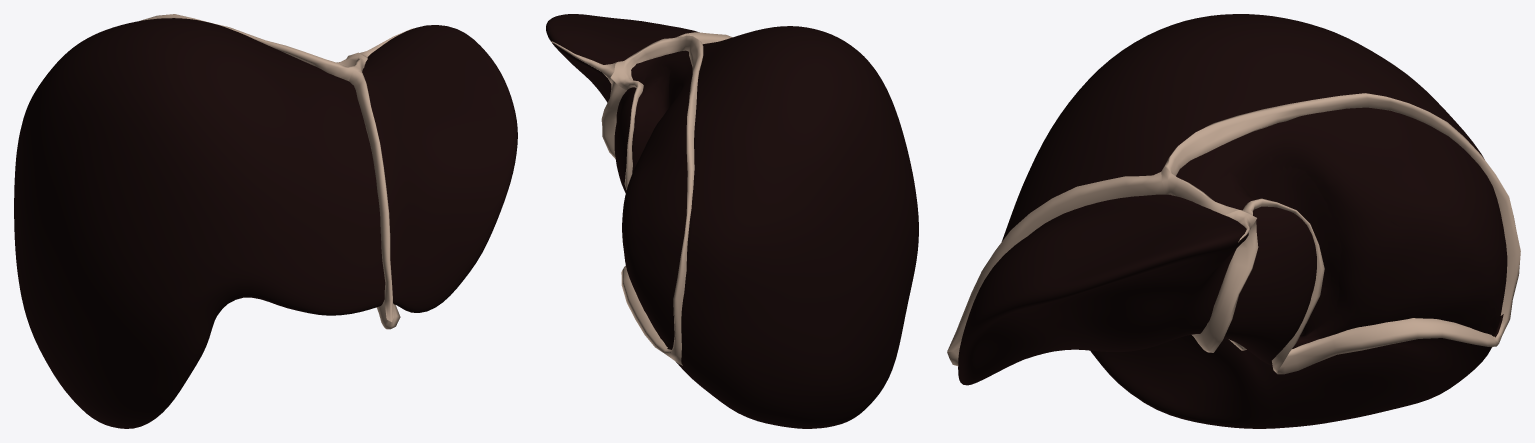
File: VH_M_Liver.fbx
The picture shows the model from 3 angles, left to right: view 1: azimuth 30°, elevation 25°; view 2: azimuth 150°, elevation 25°; view 3: azimuth 270°, elevation 25°; orthographic projection. The views are drawn at different scales.
Visible parts, largest first — view 1: VH_M_liver_capsule, VH_M_falciform_ligament, VH_M_coronary_ligament_of_liver; view 2: VH_M_liver_capsule, VH_M_bare_area_of_liver, VH_M_coronary_ligament_of_liver, VH_M_caudate_lobe_of_liver, VH_M_ligamentum_venosum, VH_M_right_posterosuperior_segment, VH_M_triangular_ligament_of_liver; view 3: VH_M_liver_capsule, VH_M_bare_area_of_liver, VH_M_coronary_ligament_of_liver, VH_M_caudate_lobe_of_liver, VH_M_falciform_ligament, VH_M_ligamentum_venosum, VH_M_diaphragmatic_surface, VH_M_right_posterosuperior_segment.
Boxes of the visible parts, x1,y1,x2,y2 form: VH_M_liver_capsule: (14, 18, 517, 428); VH_M_falciform_ligament: (349, 70, 393, 321); VH_M_coronary_ligament_of_liver: (140, 14, 367, 81); VH_M_liver_capsule: (546, 14, 918, 428); VH_M_bare_area_of_liver: (622, 50, 692, 347); VH_M_coronary_ligament_of_liver: (610, 35, 703, 365); VH_M_caudate_lobe_of_liver: (632, 54, 688, 125); VH_M_ligamentum_venosum: (601, 78, 626, 158); VH_M_right_posterosuperior_segment: (627, 118, 687, 311); VH_M_triangular_ligament_of_liver: (551, 41, 616, 82); VH_M_liver_capsule: (958, 14, 1503, 428); VH_M_bare_area_of_liver: (1176, 107, 1507, 344); VH_M_coronary_ligament_of_liver: (1161, 93, 1520, 374); VH_M_caudate_lobe_of_liver: (1190, 151, 1341, 348); VH_M_falciform_ligament: (947, 172, 1165, 351); VH_M_ligamentum_venosum: (1192, 220, 1258, 352); VH_M_diaphragmatic_surface: (1226, 166, 1496, 345); VH_M_right_posterosuperior_segment: (1339, 107, 1499, 308).
Bounding box in the file's own units: 0.1914 × 0.1746 × 0.2018.
